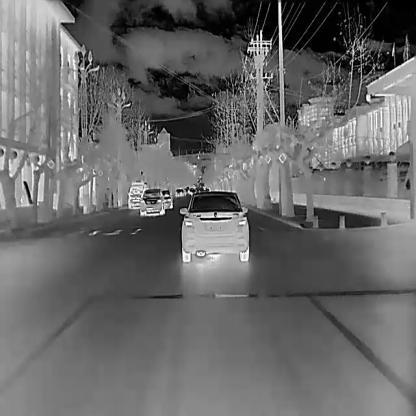car: (182, 191, 249, 262), (140, 188, 164, 215), (128, 180, 147, 208), (162, 187, 172, 208), (175, 189, 183, 197)
